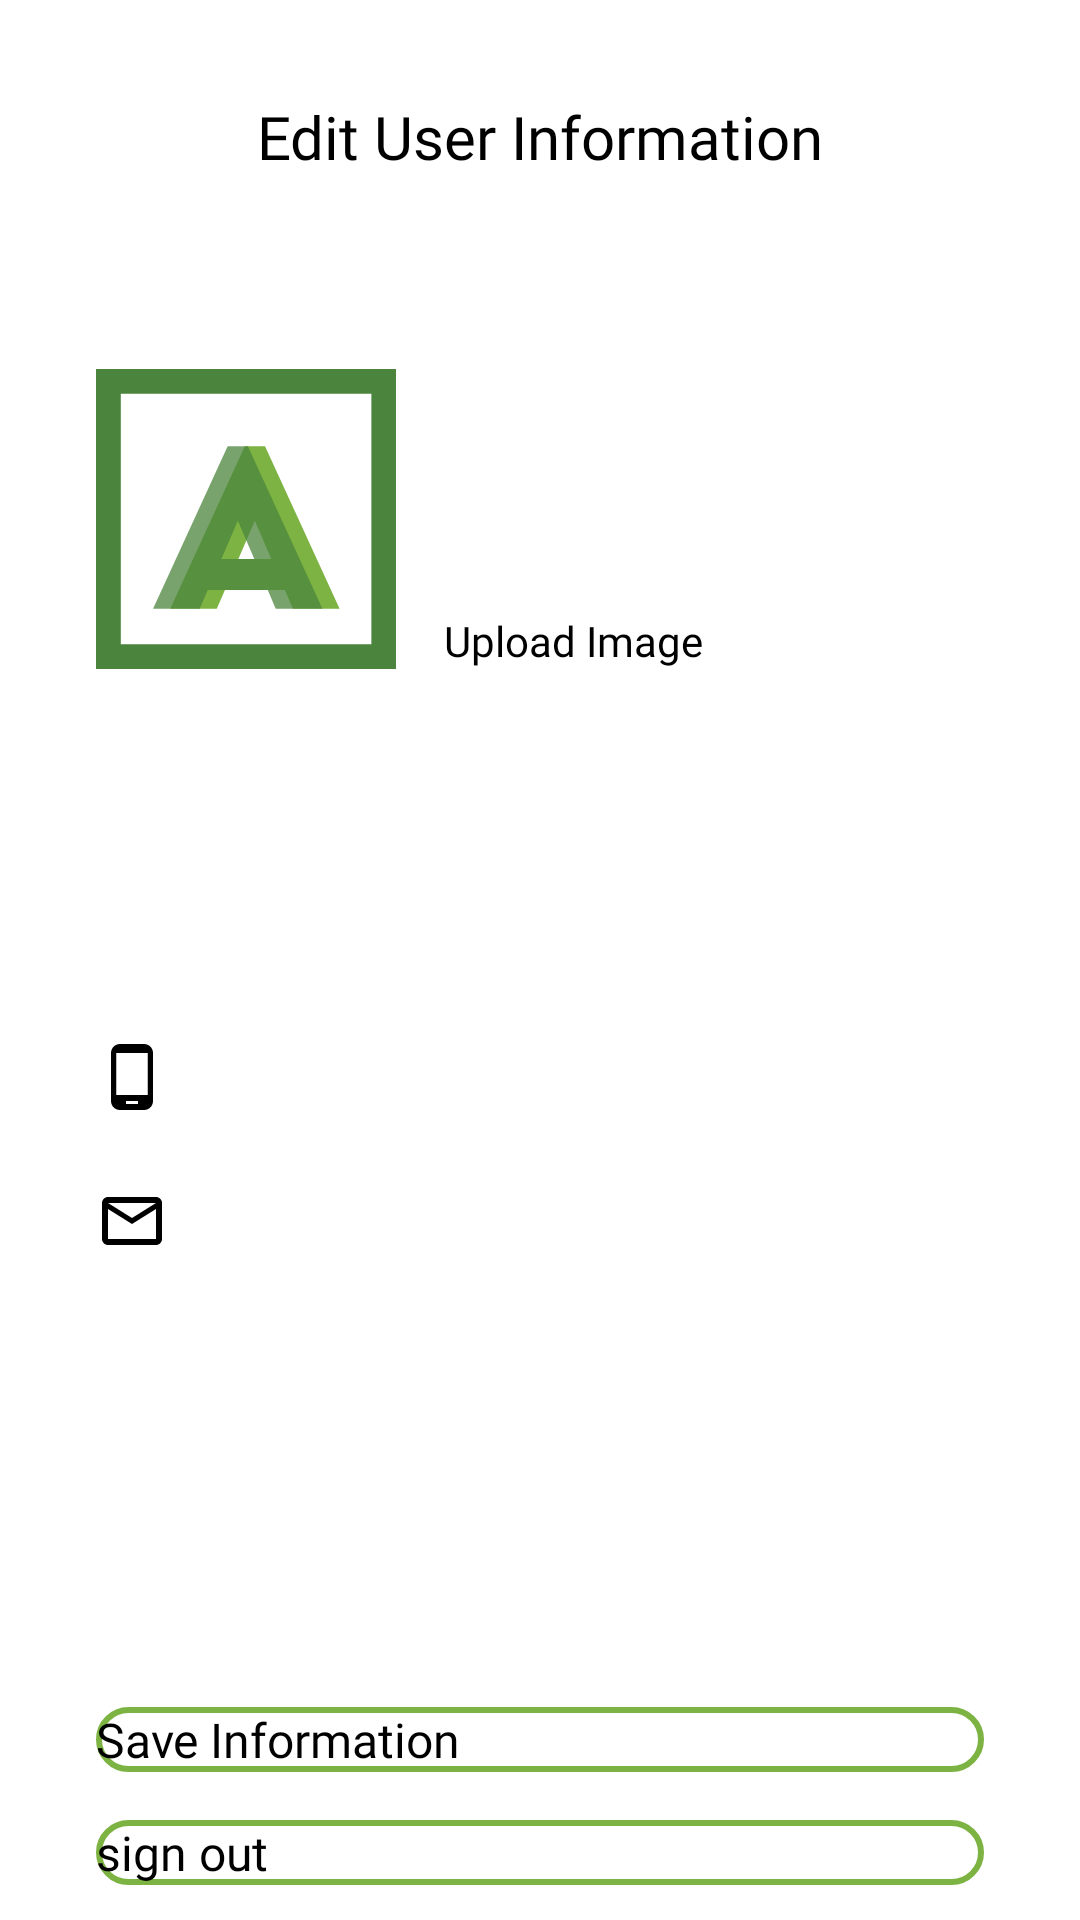

Icons on this 1080×1920 Android screen, each with its box as [x1, y1, x2, y2]:
email: [102, 1197, 162, 1245]
phone: [111, 1044, 153, 1110]
